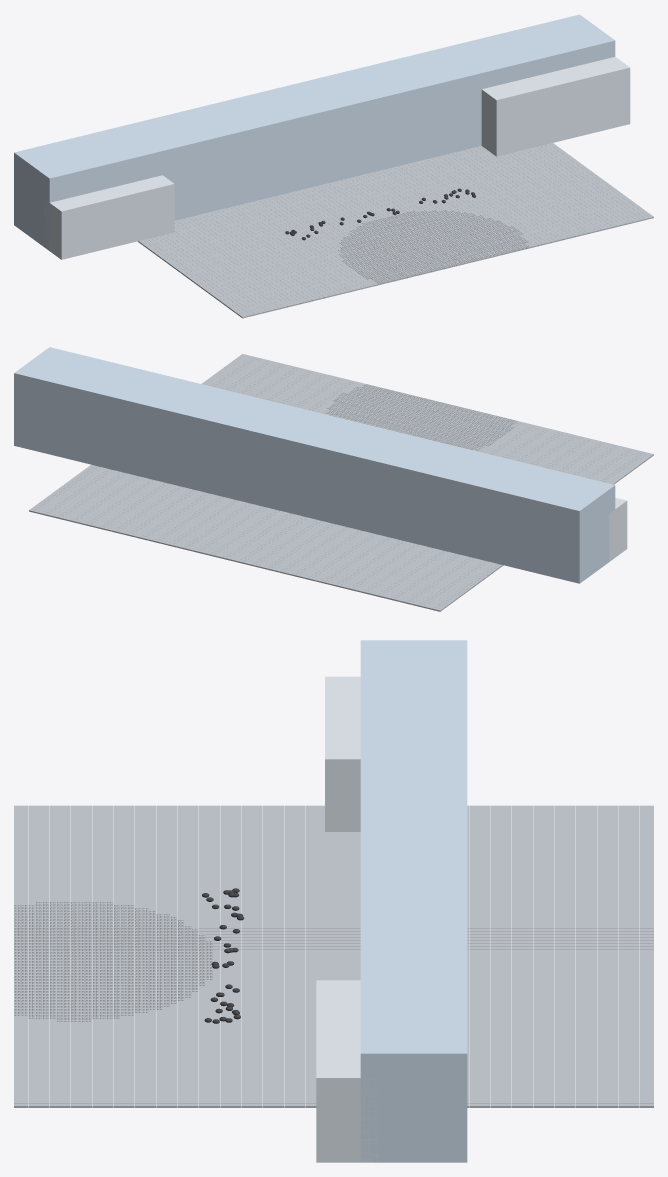
Rendered from set.glb.
The picture shows the model from 3 angles, top to bottom: view 1: azimuth 30°, elevation 25°; view 2: azimuth 150°, elevation 25°; view 3: azimuth 270°, elevation 25°; orthographic projection. The views are drawn at different scales.
Parts seen in each view (by area): view 1: ice_wall, ice_plain, ice_wall_east, ice_wall_west; view 2: ice_wall, ice_plain, ice_wall_west; view 3: ice_plain, ice_wall, ice_wall_east, ice_wall_west.
Boxes of the visible parts, box(x1,y1,x2,y2) form: ice_wall: box(14, 14, 615, 250); ice_plain: box(137, 143, 653, 318); ice_wall_east: box(481, 56, 630, 156); ice_wall_west: box(43, 175, 174, 259); ice_wall: box(14, 347, 615, 583); ice_plain: box(29, 354, 653, 611); ice_wall_west: box(609, 498, 627, 561); ice_plain: box(14, 805, 653, 1107); ice_wall: box(360, 640, 467, 1162); ice_wall_east: box(316, 980, 378, 1162); ice_wall_west: box(325, 676, 360, 831).
Size of the model in its own units: 110 by 13.74 by 71.99.
